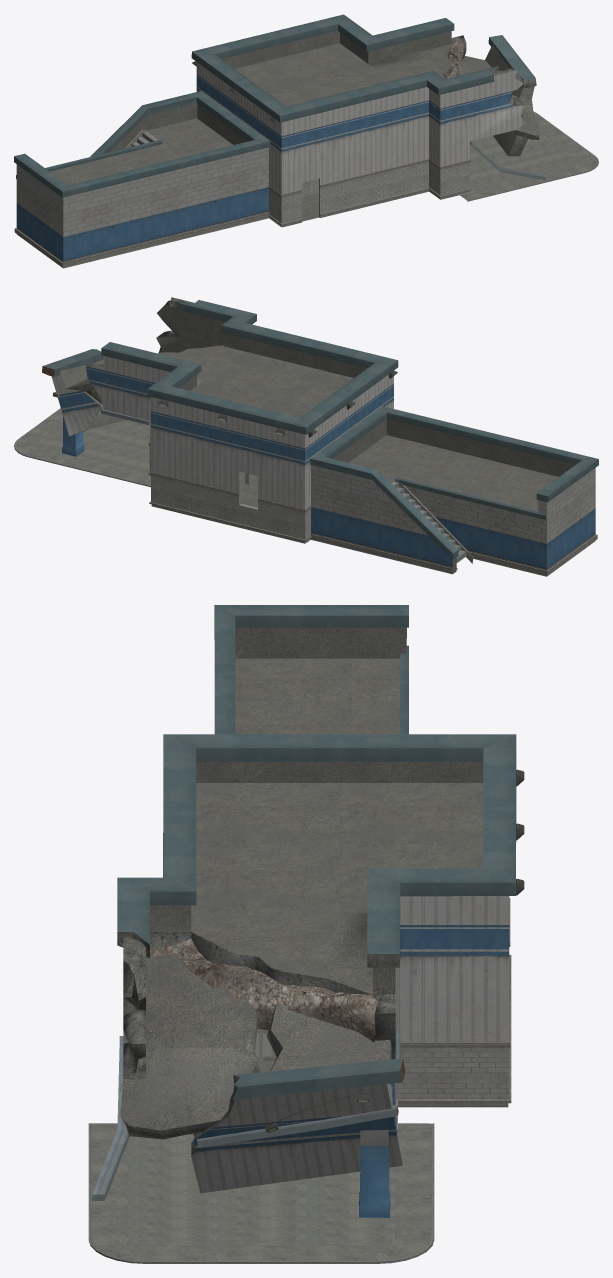
File: Building_Fdc03_2048.glb
3 views of the same model, one above another, from view 1: azimuth 30°, elevation 25°; view 2: azimuth 150°, elevation 25°; view 3: azimuth 270°, elevation 25° (orthographic). The views are drawn at different scales.
Parts seen in each view (by area): view 1: xiutz_fdc_03; view 2: xiutz_fdc_03; view 3: xiutz_fdc_03.
Part boxes in pixels (<box>): xiutz_fdc_03: <box>14,14,598,268</box>; xiutz_fdc_03: <box>14,297,598,576</box>; xiutz_fdc_03: <box>88,605,524,1263</box>.
Bounding box in the file's own units: 43.34 × 9.45 × 15.87.
Materials: 1 (1 with a texture image).
